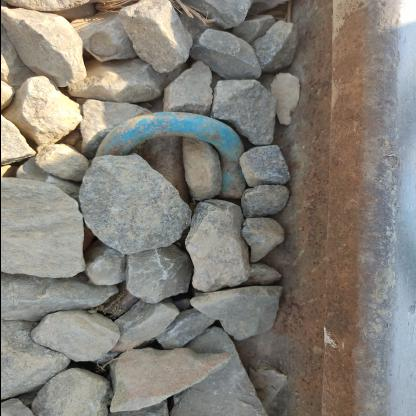Non Defective: (122, 171, 348, 363)
